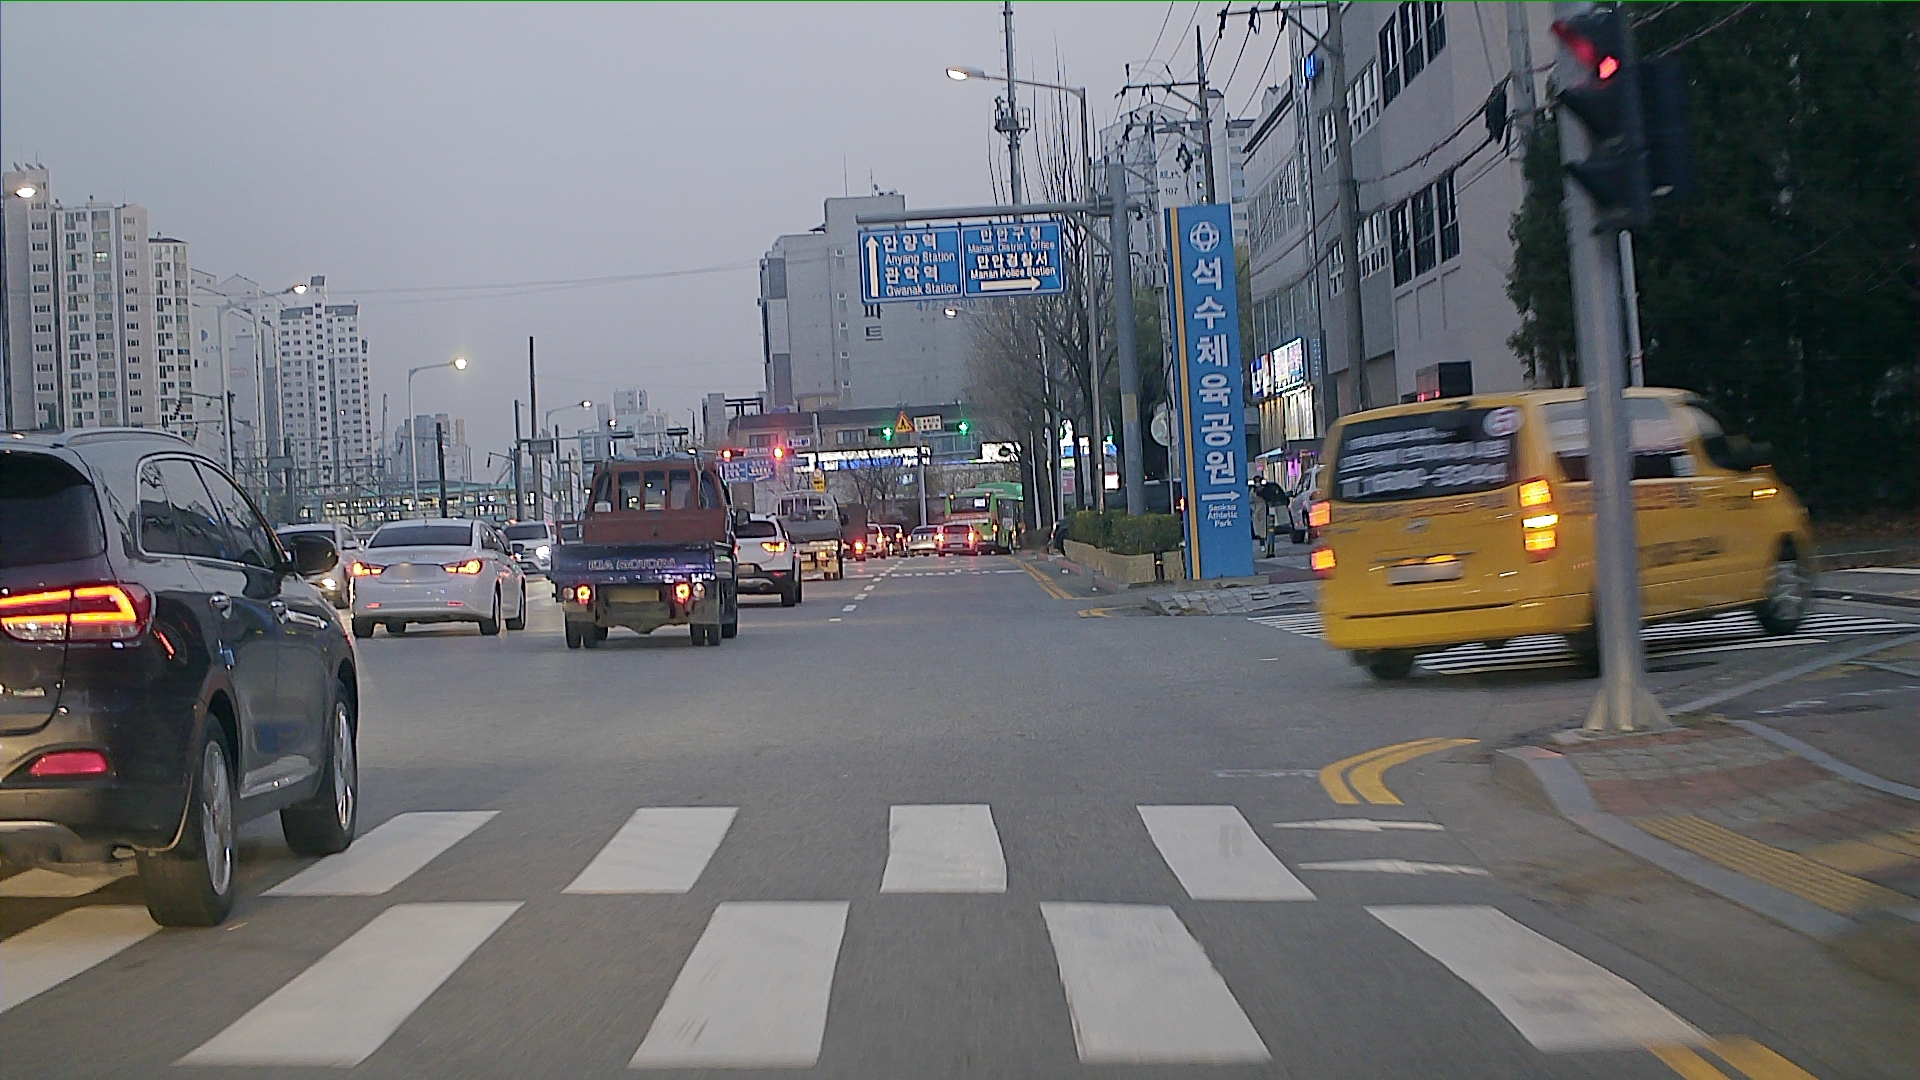trafficLight: (853, 419, 981, 440), (716, 440, 800, 462)
